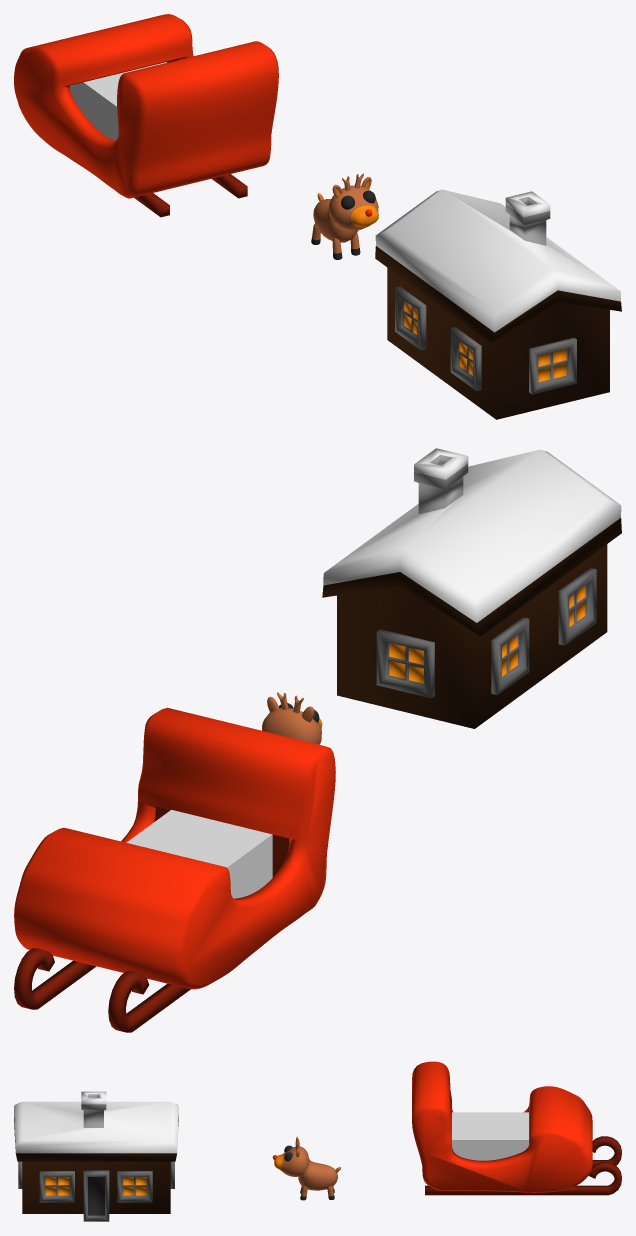
File: santahut.glb
3 renders of one model, top to bottom at view 1: azimuth 30°, elevation 25°; view 2: azimuth 150°, elevation 25°; view 3: azimuth 270°, elevation 25°, orthographic. The views are drawn at different scales.
Parts seen in each view (by area): view 1: Hut, BezierCircle, Reindeer, Cube, Cube.001; view 2: Hut, BezierCircle, Cube, Cube.001, Reindeer; view 3: Hut, BezierCircle, Cube, Cube.001, Reindeer.
Part boxes in pixels (x1,y1,x2,y2): Hut: [375, 189, 621, 419]; BezierCircle: [14, 14, 278, 198]; Reindeer: [311, 173, 378, 259]; Cube: [69, 62, 166, 140]; Cube.001: [18, 104, 247, 217]; Hut: [322, 448, 621, 728]; BezierCircle: [14, 707, 335, 989]; Cube: [126, 810, 272, 898]; Cube.001: [14, 948, 190, 1032]; Reindeer: [262, 692, 322, 744]; Hut: [14, 1091, 178, 1221]; BezierCircle: [412, 1061, 592, 1192]; Cube: [452, 1112, 528, 1160]; Cube.001: [425, 1136, 621, 1195]; Reindeer: [272, 1136, 341, 1200].
Bounding box in the file's own units: 10.08 × 8.42 × 40.93.
1 material, 1 textured.
